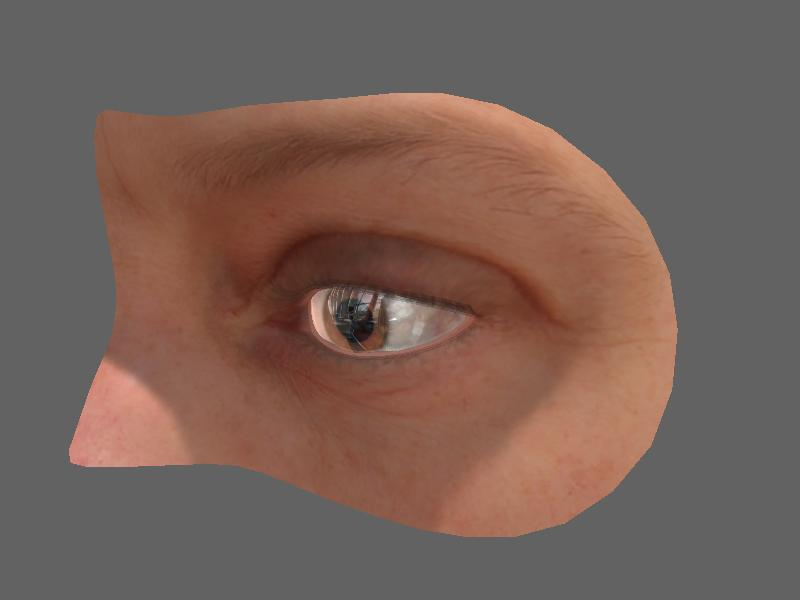iris: (320, 289, 392, 355)
